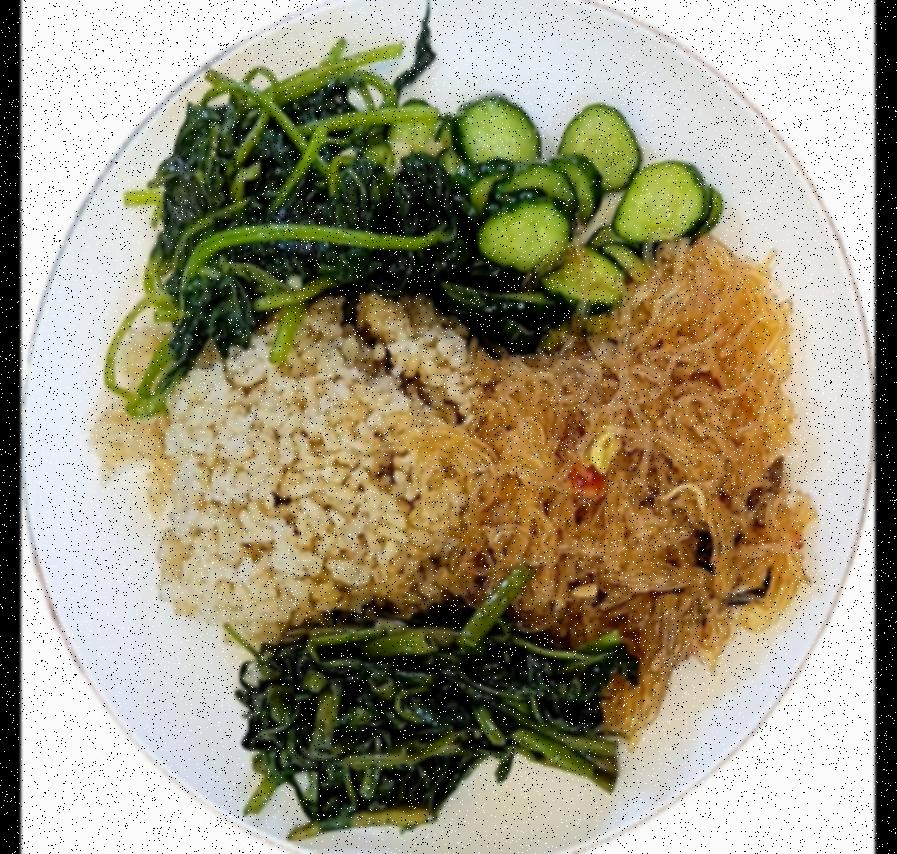big fried chicken leg: (24, 0, 873, 854)
box: (98, 301, 482, 640)
braised fish fillet: (456, 240, 819, 726), (114, 68, 541, 403), (234, 576, 633, 844), (384, 88, 718, 301)
